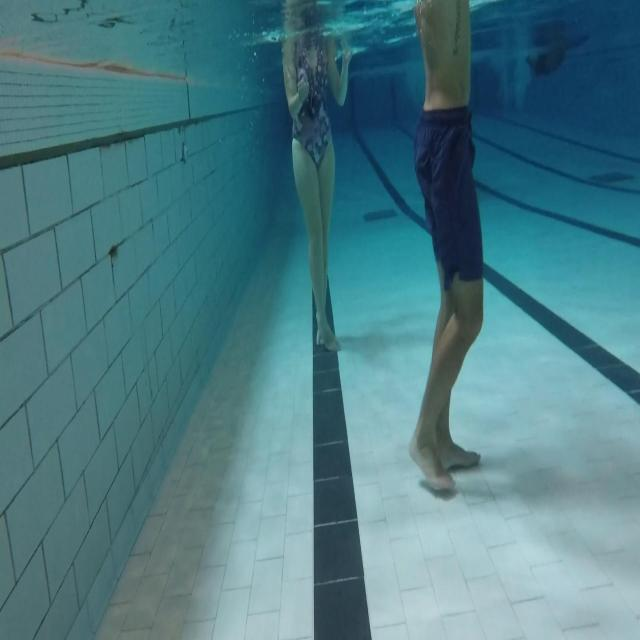human: (408, 0, 484, 494), (281, 1, 353, 353)
